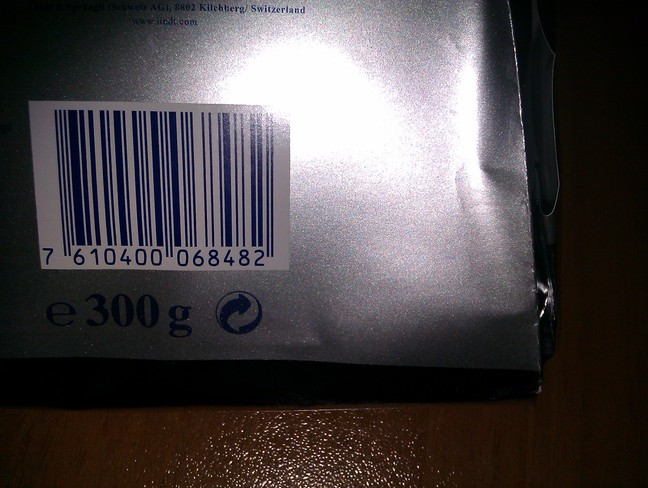barcode: (22, 96, 300, 277)
